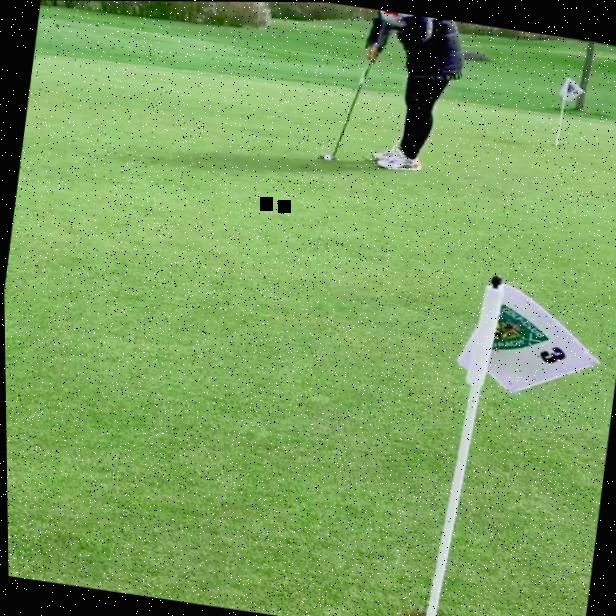ClubHead: (318, 154, 336, 160)
GolfBall: (322, 153, 332, 161)
